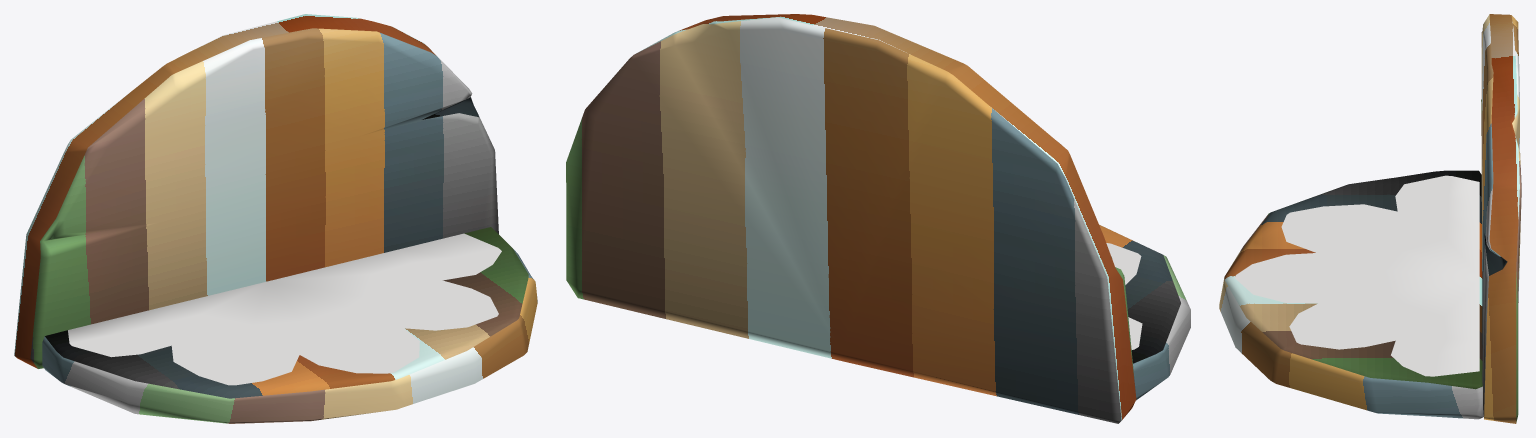
File: CharSkyKid_Prop_SunflowerWallShelf.glb
3 views of the same model, side by side, from view 1: azimuth 30°, elevation 25°; view 2: azimuth 150°, elevation 25°; view 3: azimuth 270°, elevation 25° (orthographic). The views are drawn at different scales.
Visible parts, largest first — view 1: CharSkyKid_Prop_SunflowerWallShelf; view 2: CharSkyKid_Prop_SunflowerWallShelf; view 3: CharSkyKid_Prop_SunflowerWallShelf.
Part boxes in pixels (box(x1,y1,x2,y2)): CharSkyKid_Prop_SunflowerWallShelf: box(14, 14, 537, 423); CharSkyKid_Prop_SunflowerWallShelf: box(566, 14, 1190, 423); CharSkyKid_Prop_SunflowerWallShelf: box(1219, 14, 1521, 423).
Size of the model in its own units: 1.09 by 0.619 by 0.6205.
1 material, 1 textured.
